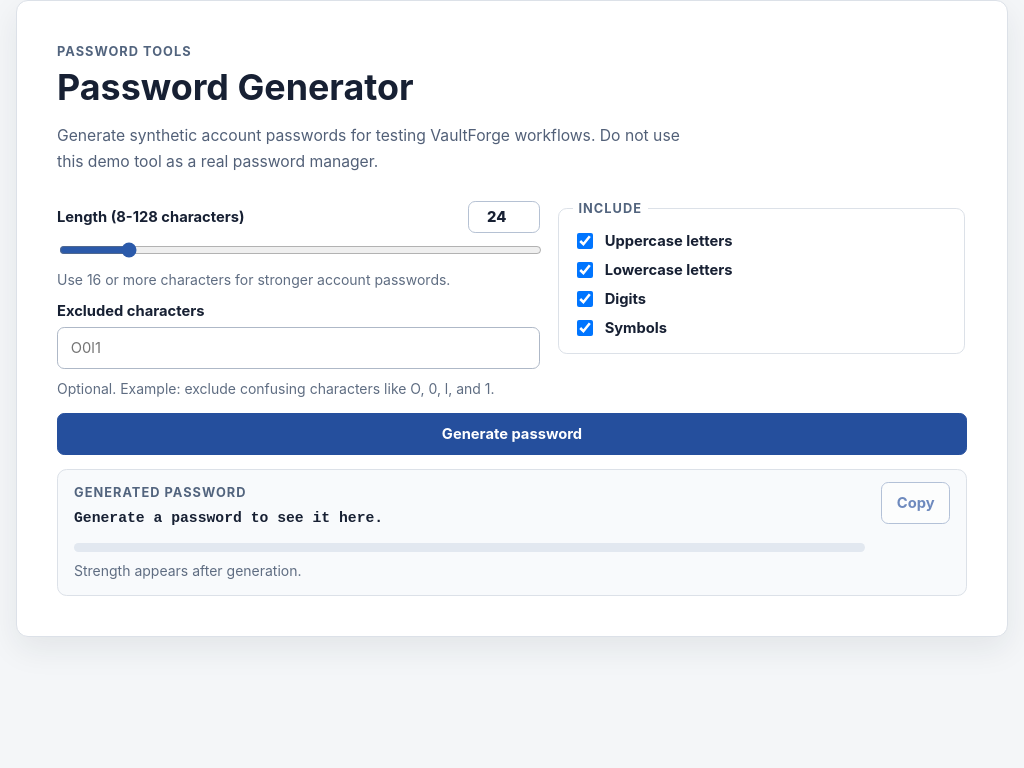
Test: PasswordGeneratorPage › copies the generated password
Click the button "Generate password": (512, 434) [57,413,967,455]
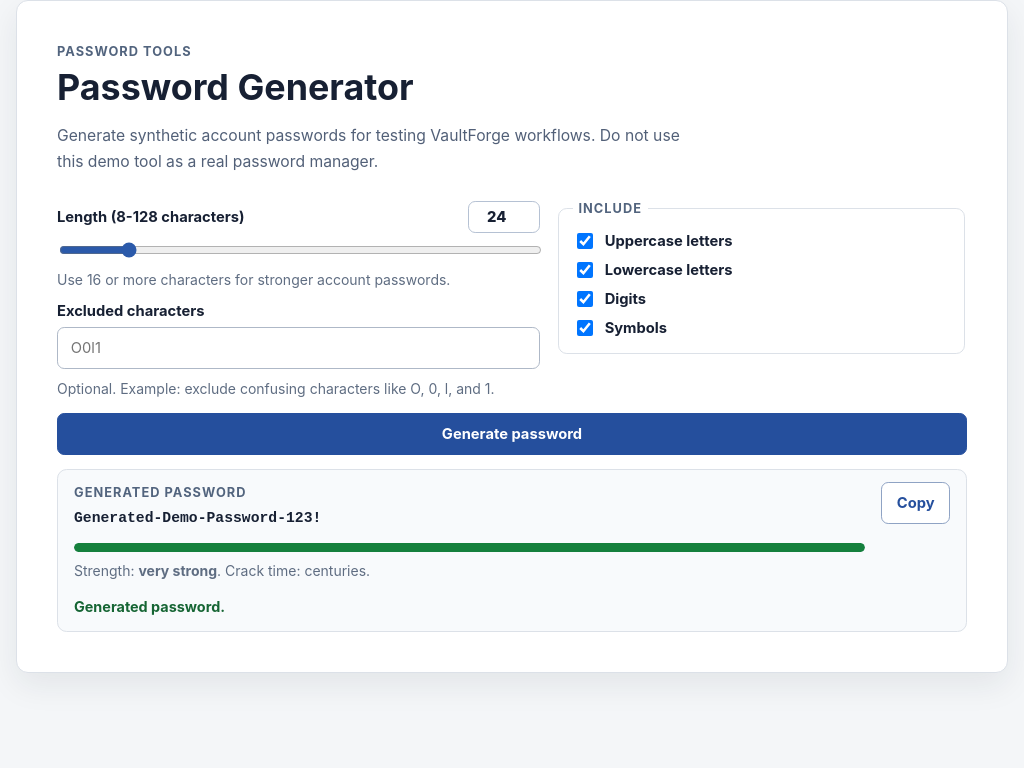
Now the text "Generated-Demo-Password-123!" is shown, box [74,510,321,526]
Click the button "Copy": (916, 503) [881,482,950,524]
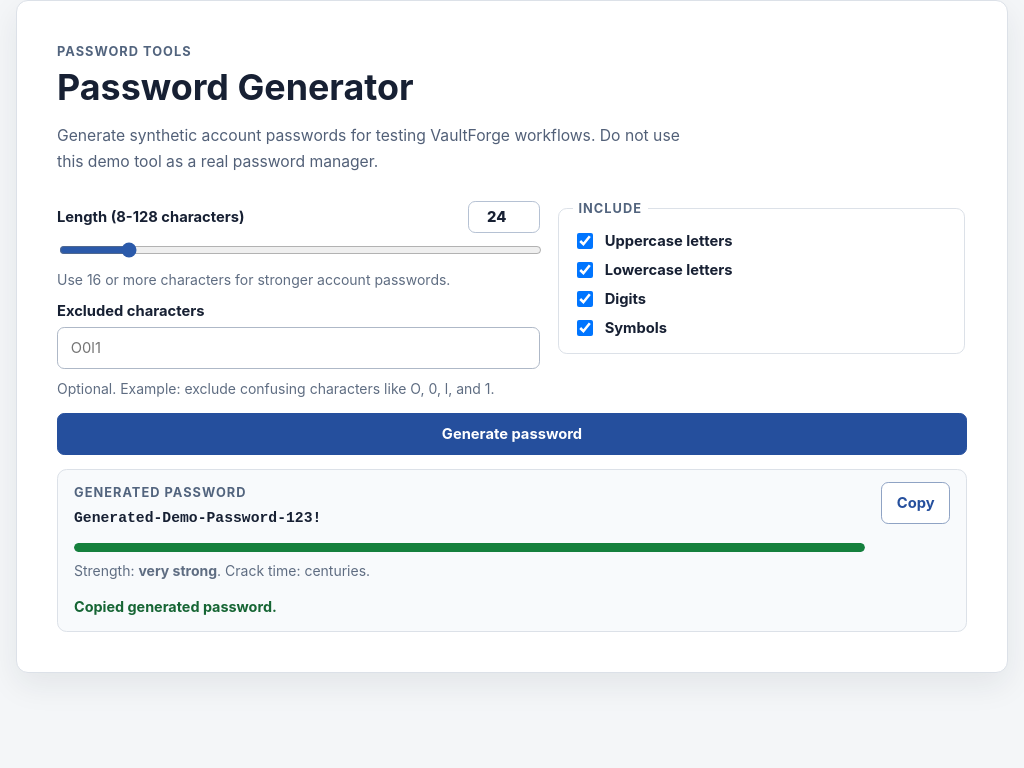
Now the text "Copied generated password." is shown, box [74,598,277,614]
